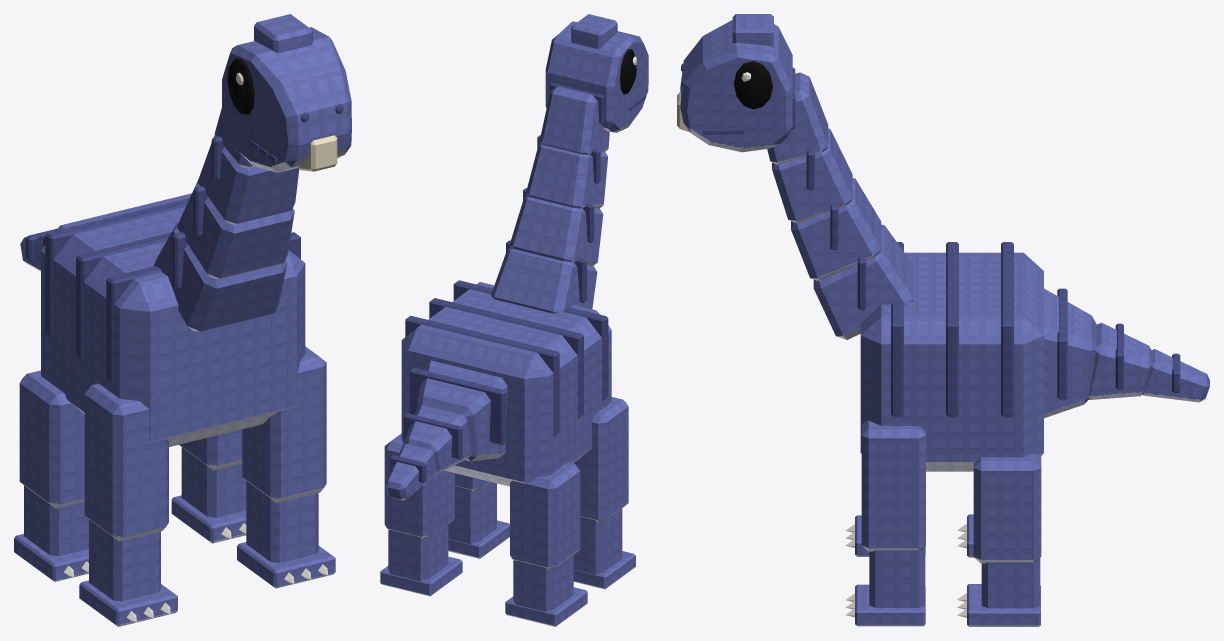
Rendered from bebe_12_Brachiosaurus.glb.
3 renders of one model, left to right at view 1: azimuth 30°, elevation 25°; view 2: azimuth 150°, elevation 25°; view 3: azimuth 270°, elevation 25°, orthographic. The views are drawn at different scales.
Visible parts, largest first — view 1: bebe_12_Brachiosaurus; view 2: bebe_12_Brachiosaurus; view 3: bebe_12_Brachiosaurus.
Boxes of the visible parts, bbox=[...] form: bebe_12_Brachiosaurus: bbox=[14, 14, 351, 626]; bebe_12_Brachiosaurus: bbox=[380, 14, 648, 626]; bebe_12_Brachiosaurus: bbox=[677, 14, 1209, 626].
Bounding box in the file's own units: 2.69 × 7.12 × 6.17.
Materials: 1 (1 with a texture image).
